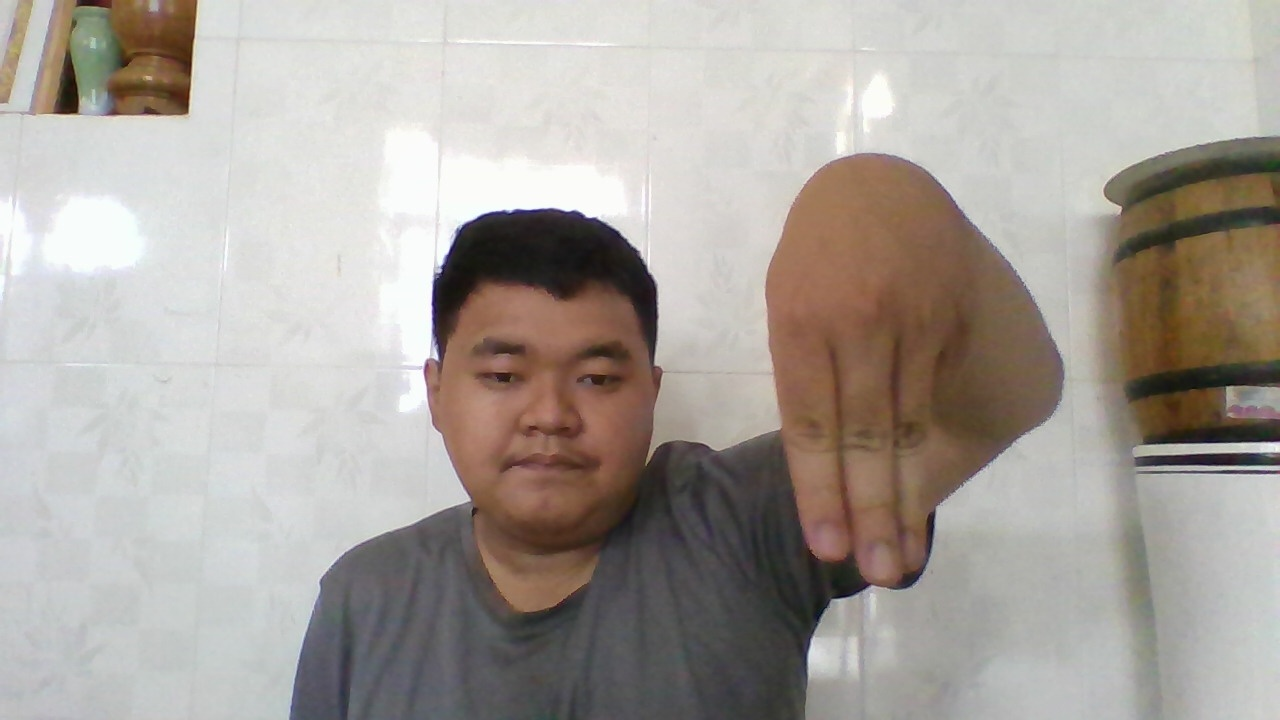M: (767, 163, 973, 583)
